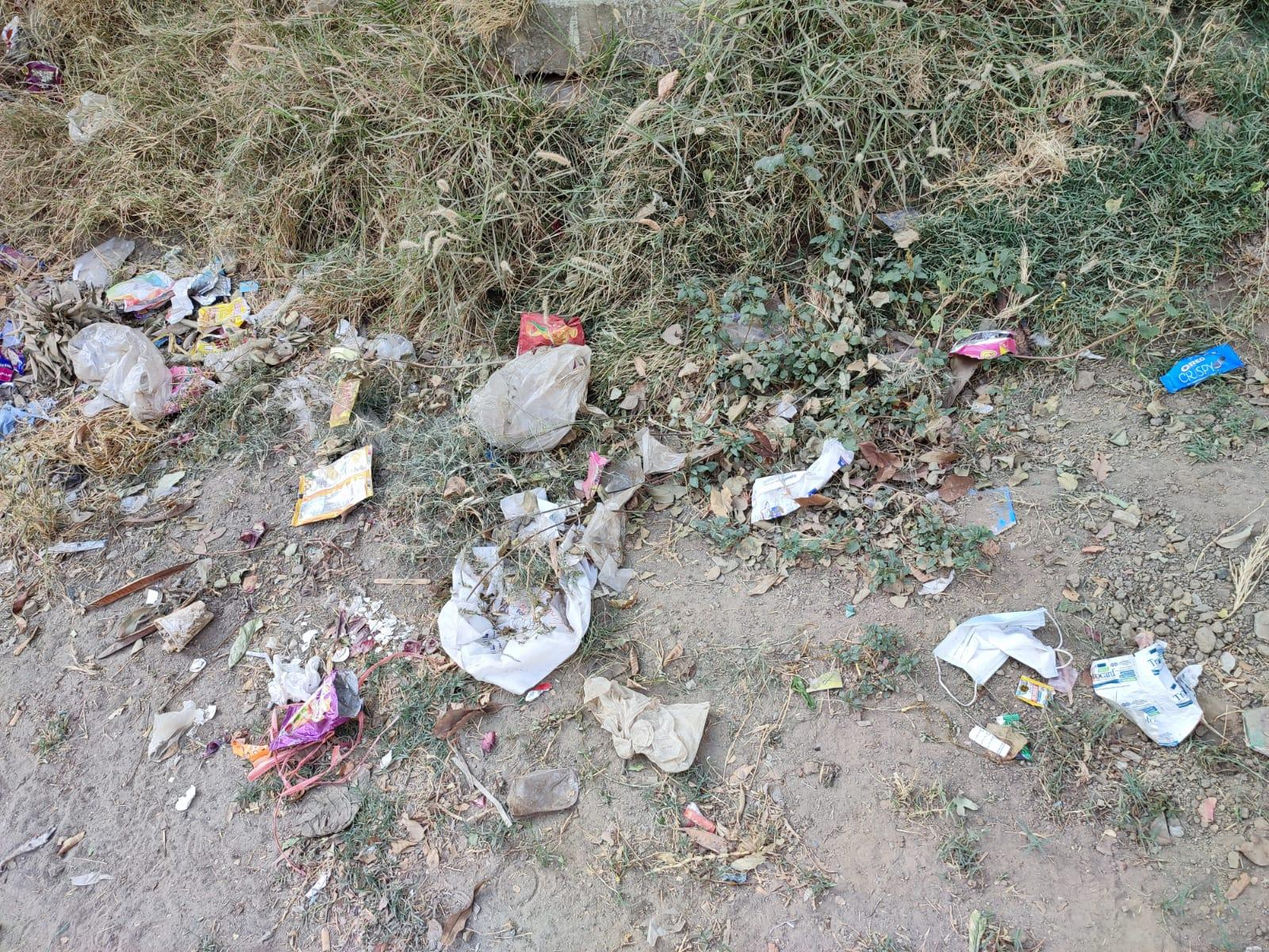garbage: (5, 225, 1238, 780)
